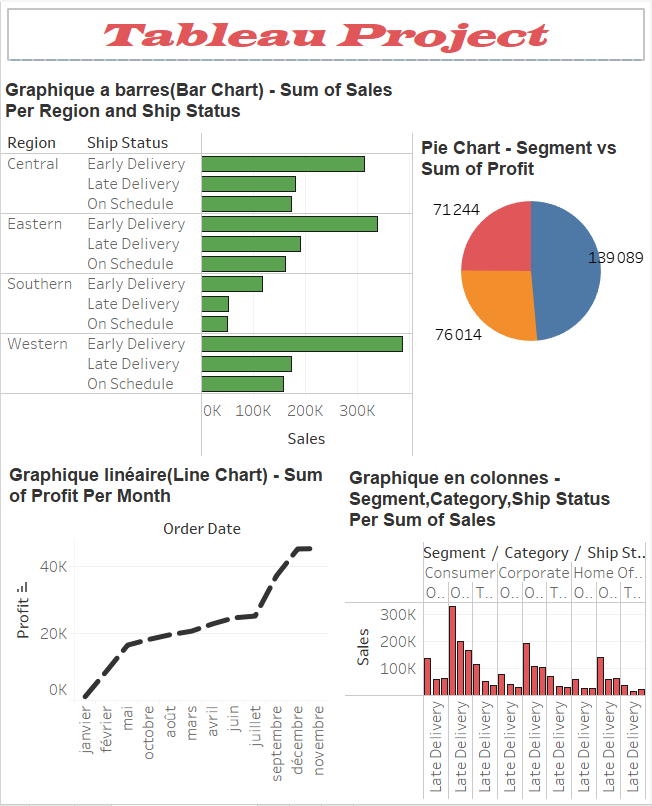

The page's visual inventory and layout, read from the dashboard file:
{"tool":"tableau","page":{"name":"Tableau Project","canvas":[1000,1000],"units":"permille","ordinal":0},"visuals":[{"type":"title","box":[12.3,10,975.4,61.1]},{"type":"worksheet","title":"Bar","mark":"Bar","rows":["Region","Ship Status"],"cols":["Sales"],"box":[0,92.3,633.9,477.6]},{"type":"worksheet","title":"Pie","mark":"Pie","box":[640,164.6,350.8,276.8]},{"type":"worksheet","title":"Line","mark":"Line","rows":["Profit"],"cols":["Order Date"],"box":[6.2,572.3,498.5,422.7]},{"type":"worksheet","title":"Columns","mark":"Automatic","rows":["Sales"],"cols":["Segment","Category","Ship Status"],"box":[529.2,576.1,463.1,418.9]}]}

Visuals, with their boxes on the dashboard's canvas, which has no fixed pixel size, in thousandths of its width and height (x1, y1, x2, y2). These are canvas units, not pixel positions in the 652x806 screenshot, which may show the page scaled, cropped or inside an application window:
title: 12:10:988:71
"Bar" worksheet (Bar marks): 0:92:634:570
"Pie" worksheet (Pie marks): 640:165:991:441
"Line" worksheet (Line marks): 6:572:505:995
"Columns" worksheet: 529:576:992:995
